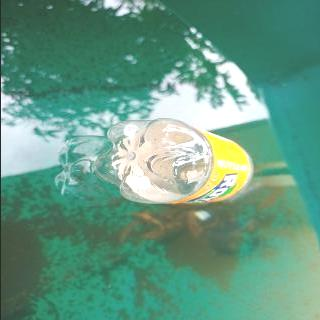bottle: (90, 112, 257, 208)
